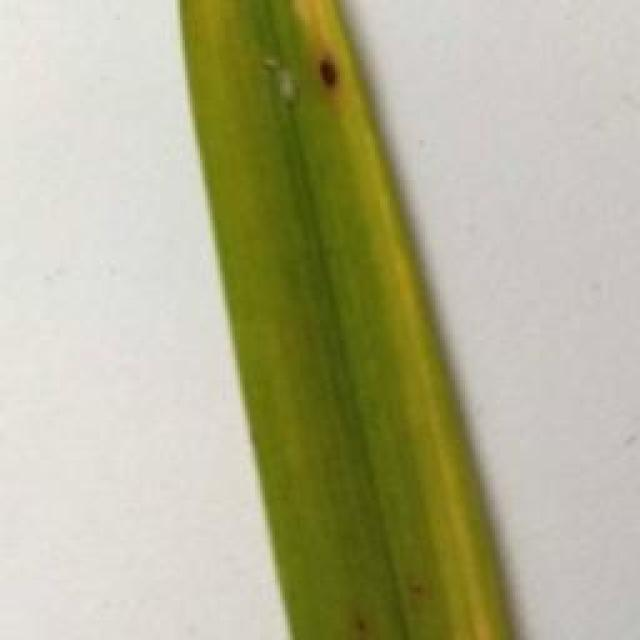Brown_Spot: (312, 49, 344, 102), (347, 612, 394, 640), (403, 575, 438, 607)
